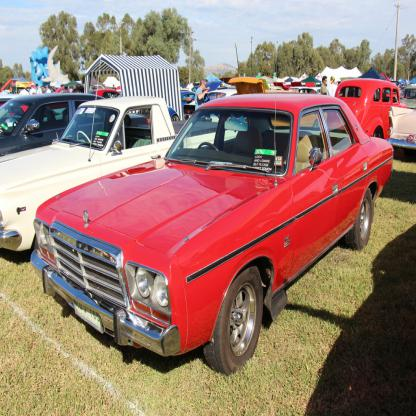Car: (0, 67, 416, 371)
